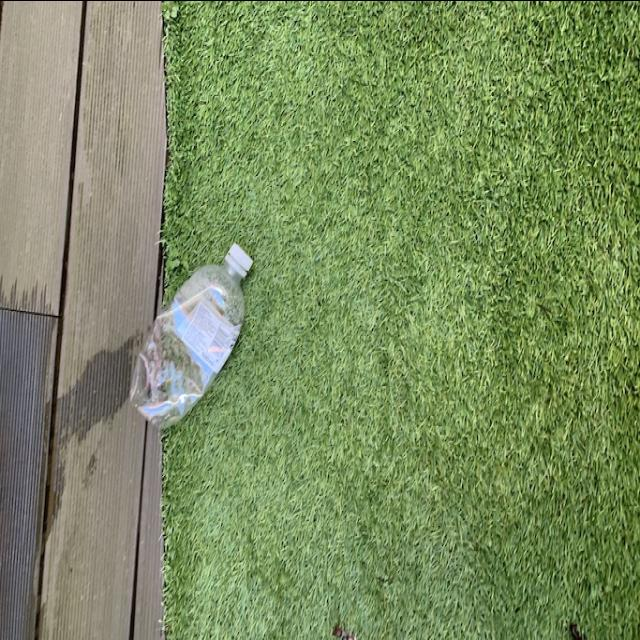PET: (128, 242, 254, 432)
